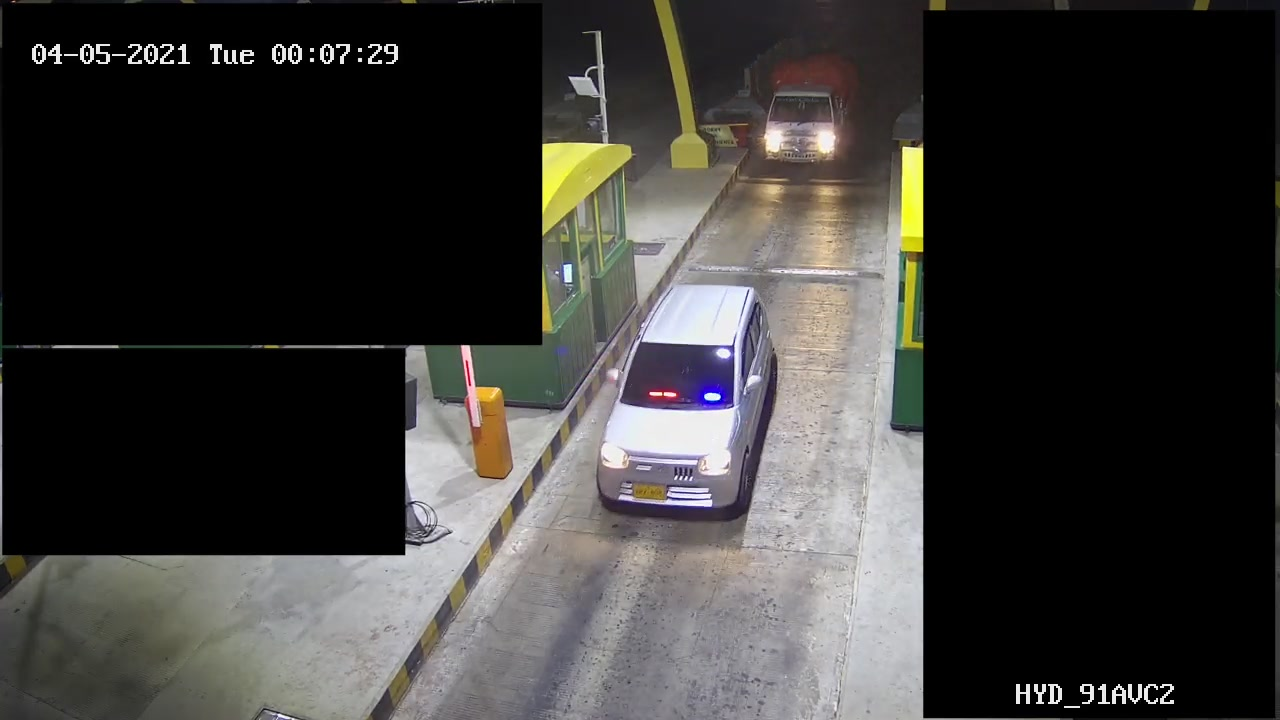F1: (580, 280, 786, 521)
